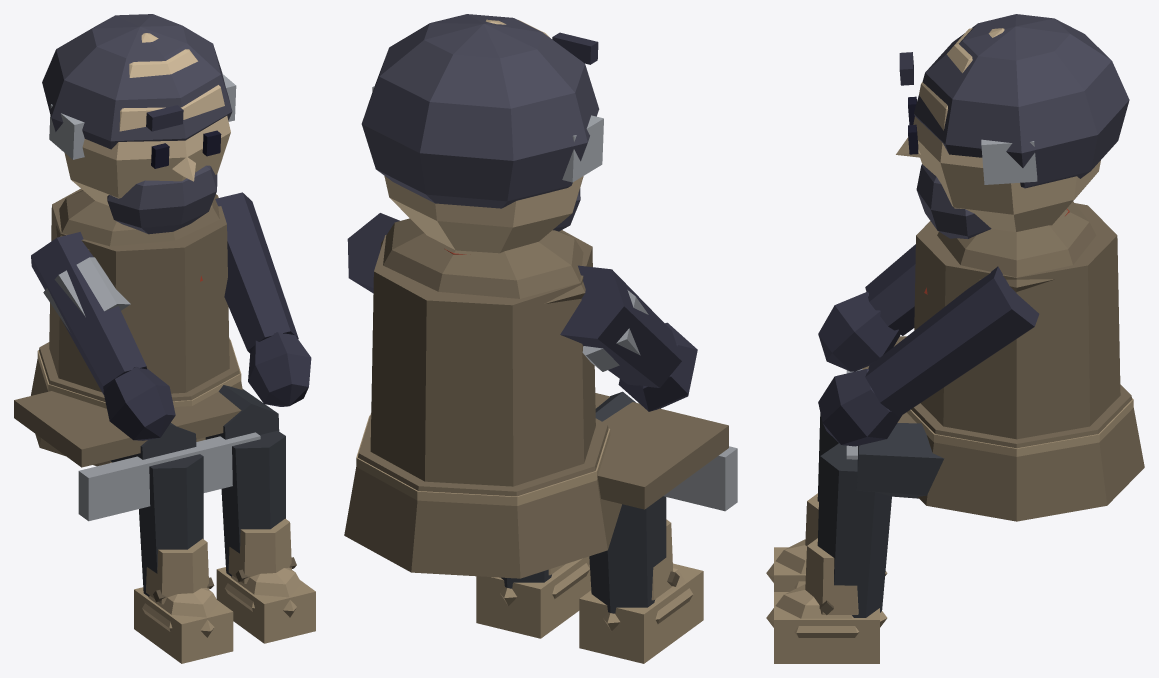
The model's file is ottie_home_unshod.glb.
3 renders of one model, left to right at view 1: azimuth 30°, elevation 25°; view 2: azimuth 150°, elevation 25°; view 3: azimuth 270°, elevation 25°, orthographic. The views are drawn at different scales.
Parts seen in each view (by area): view 1: Head, LegL, Torso, LegR, ArmR, ArmL; view 2: Torso, Head, LegL, LegR, ArmR, ArmL; view 3: Torso, Head, LegL, ArmL, ArmR, LegR.
Part boxes in pixels (box(x1,y1,x2,y2)): Head: box(42, 14, 236, 234); LegL: box(14, 385, 315, 643); Torso: box(31, 188, 242, 466); LegR: box(110, 423, 233, 663); ArmR: box(31, 232, 175, 440); ArmL: box(215, 192, 311, 406); Torso: box(344, 218, 621, 578); Head: box(361, 14, 603, 253); LegL: box(476, 393, 737, 638); LegR: box(579, 391, 703, 663); ArmR: box(560, 265, 697, 411); ArmL: box(347, 213, 399, 293); Torso: box(906, 201, 1144, 521); Head: box(896, 14, 1129, 238); LegL: box(766, 336, 944, 663); ArmL: box(818, 266, 1039, 446); ArmR: box(818, 244, 915, 371); LegR: box(766, 413, 887, 591).
Size of the model in its own units: 0.6916 by 1.5 by 0.8575.
